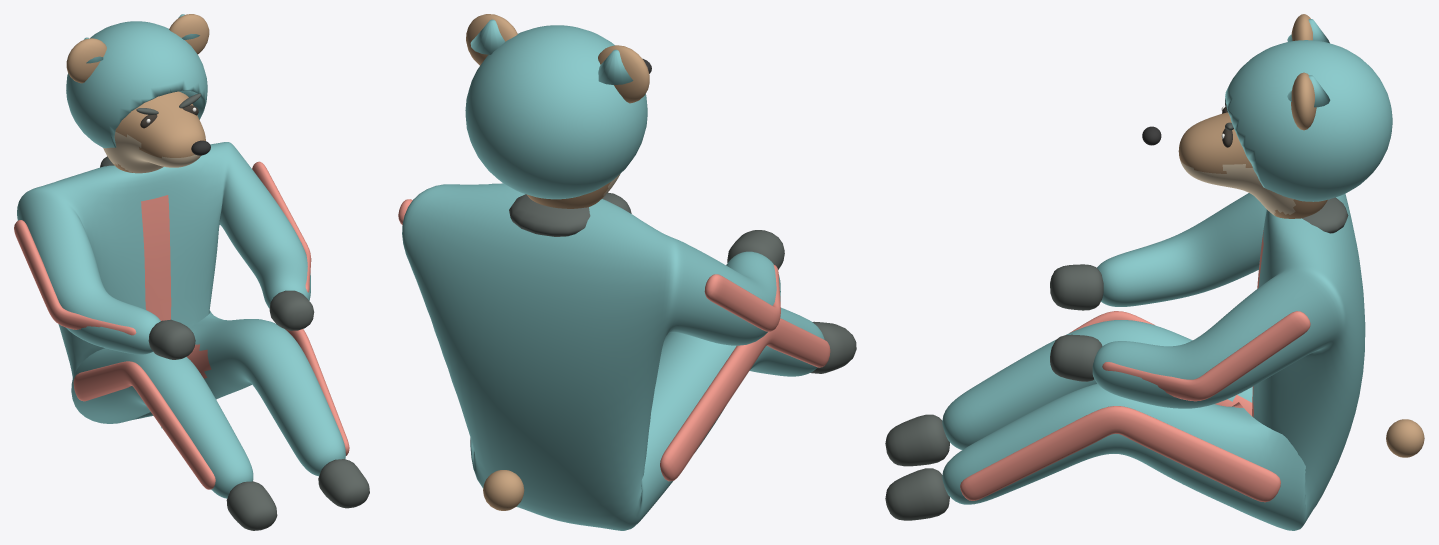
File: Bear.fbx
3 renders of one model, left to right at view 1: azimuth 30°, elevation 25°; view 2: azimuth 150°, elevation 25°; view 3: azimuth 270°, elevation 25°, orthographic. The views are drawn at different scales.
Visible parts, largest first — view 1: Pilot_bear; view 2: Pilot_bear; view 3: Pilot_bear.
Boxes of the visible parts, x1=… form: Pilot_bear: x1=14, y1=14, x2=369, y2=530; Pilot_bear: x1=398, y1=14, x2=856, y2=530; Pilot_bear: x1=885, y1=14, x2=1424, y2=530.
Size of the model in its own units: 0.7361 by 1.06 by 1.12.
